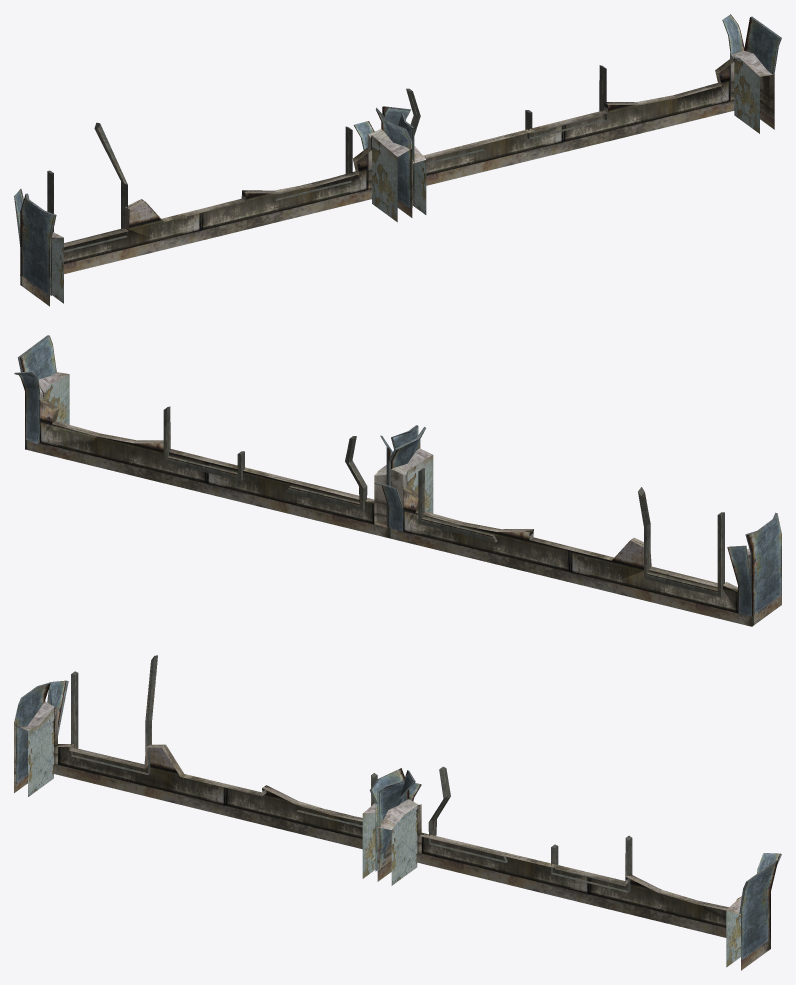
Rendered from Store_front_13_D.fbx.
3 renders of one model, top to bottom at view 1: azimuth 30°, elevation 25°; view 2: azimuth 150°, elevation 25°; view 3: azimuth 330°, elevation 25°, orthographic.
Visible parts, largest first — view 1: Store_front_13_D; view 2: Store_front_13_D; view 3: Store_front_13_D.
Boxes of the visible parts, box(x1,y1,x2,y2) form: Store_front_13_D: box(14, 14, 781, 306); Store_front_13_D: box(14, 335, 781, 626); Store_front_13_D: box(14, 655, 781, 970).
Size of the model in its own units: 1414 by 236 by 163.
